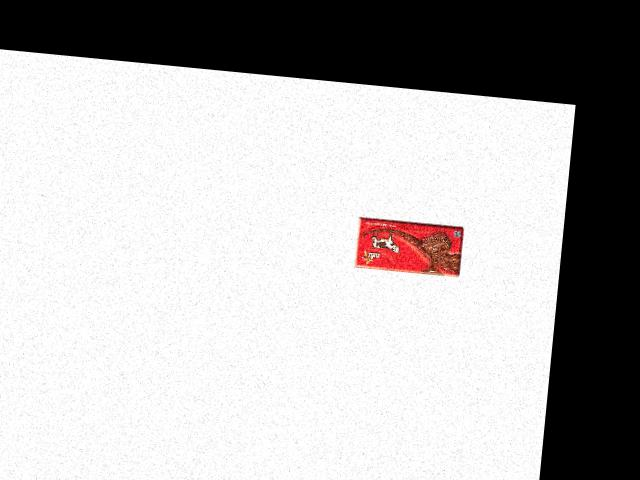chocolate: (362, 226, 466, 288)
